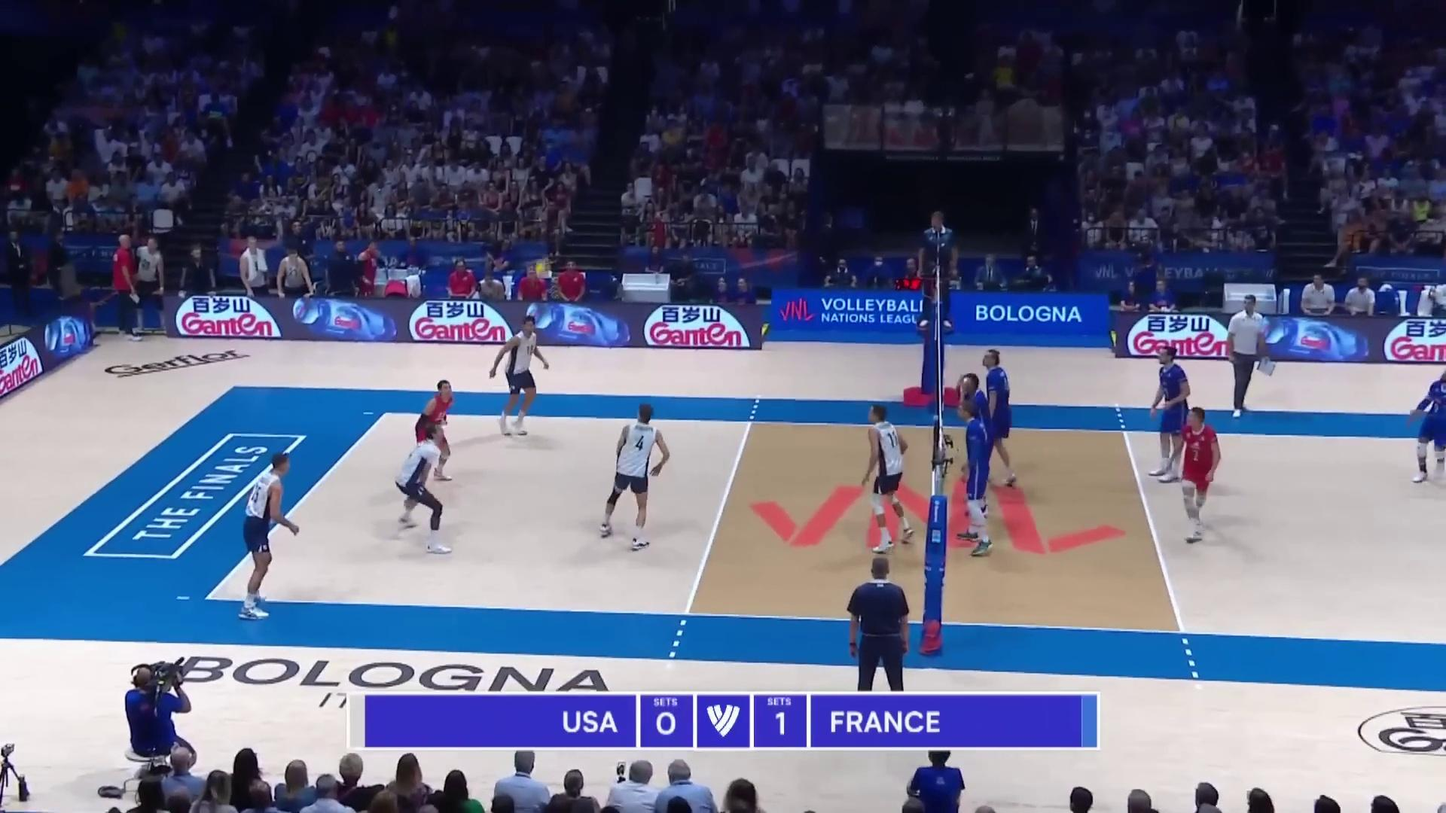player: (596, 399, 669, 551), (241, 450, 297, 622), (392, 425, 458, 555), (490, 316, 550, 440), (856, 404, 907, 547), (1143, 346, 1194, 488), (1174, 408, 1222, 544), (977, 352, 1021, 497), (953, 367, 994, 518), (957, 397, 993, 560), (406, 379, 457, 481), (1412, 369, 1446, 487)
refree: (843, 559, 907, 694), (918, 212, 958, 329)
